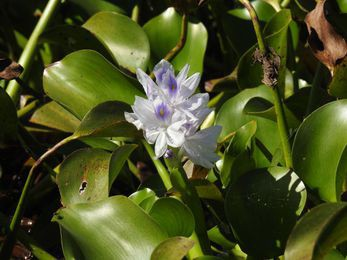water_hyacinth: (13, 1, 347, 260)
